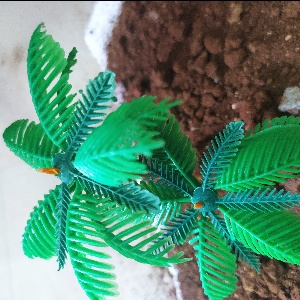plant: (11, 24, 300, 295)
